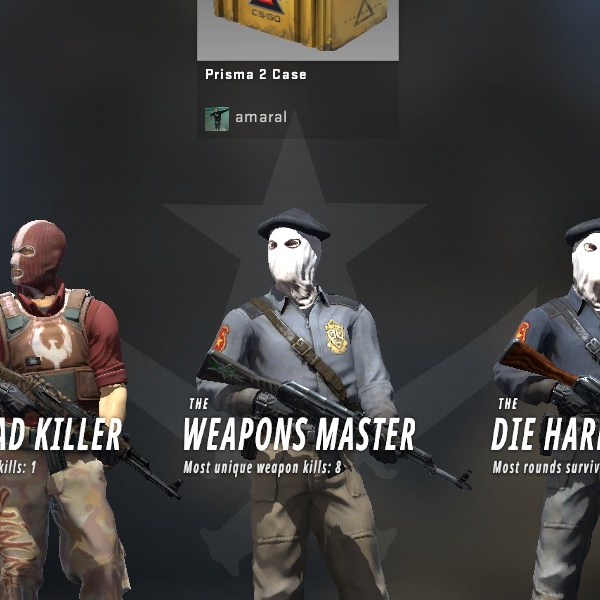t_body: (0, 194, 172, 600)
t_head: (0, 203, 95, 318)
